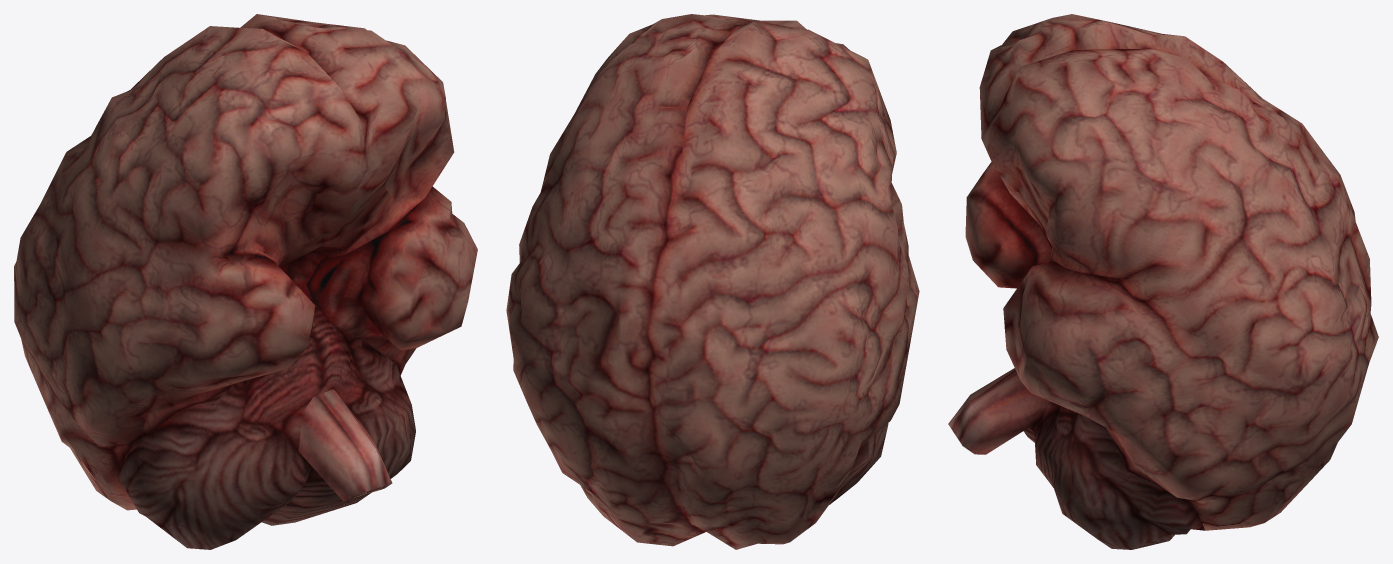
File: plushbrain_static.fbx
3 views of the same model, side by side, from view 1: azimuth 30°, elevation 25°; view 2: azimuth 150°, elevation 25°; view 3: azimuth 270°, elevation 25° (orthographic). The views are drawn at different scales.
Visible parts, largest first — view 1: brain.1; view 2: brain.1; view 3: brain.1.
Boxes of the visible parts, x1,y1,x2,y2 form: brain.1: (14, 14, 477, 549); brain.1: (506, 14, 919, 549); brain.1: (948, 14, 1378, 549).
Size of the model in its own units: 0.2814 by 0.3638 by 0.2856.
